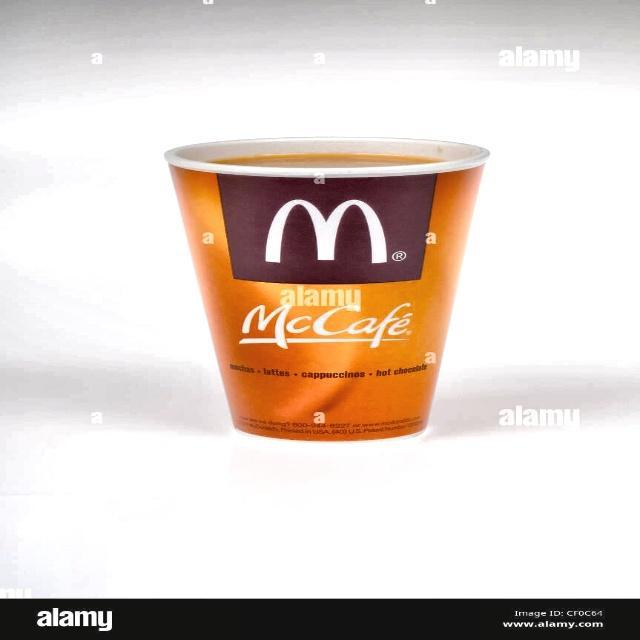paper_cup: (154, 135, 506, 447)
